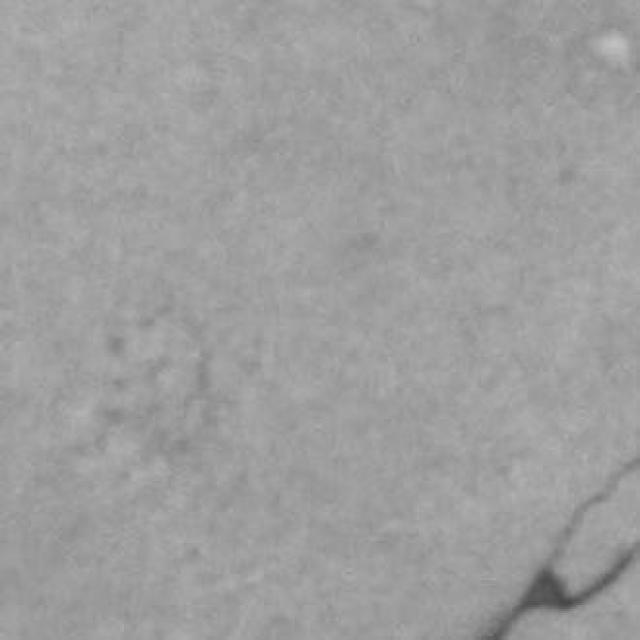crack: (480, 456, 639, 639)
